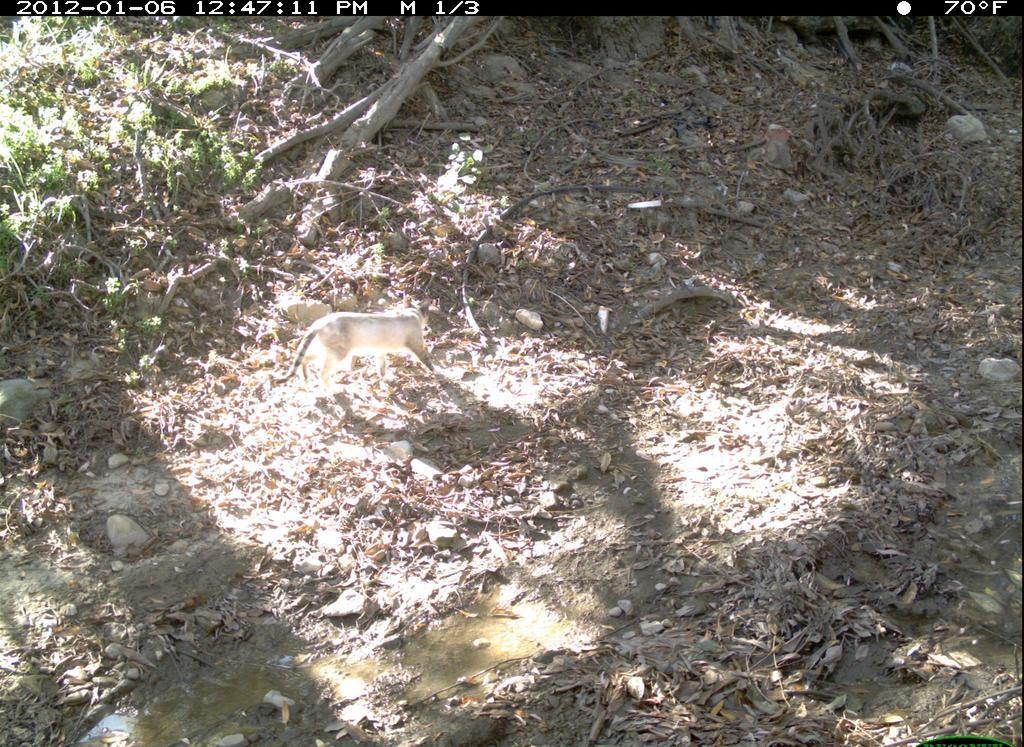cat: (273, 289, 470, 408)
